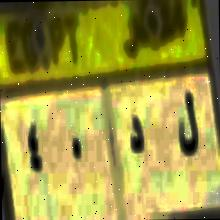0: (67, 127, 86, 171)
4: (27, 125, 44, 174)
daal: (127, 111, 147, 164)
laam: (172, 82, 202, 169)
